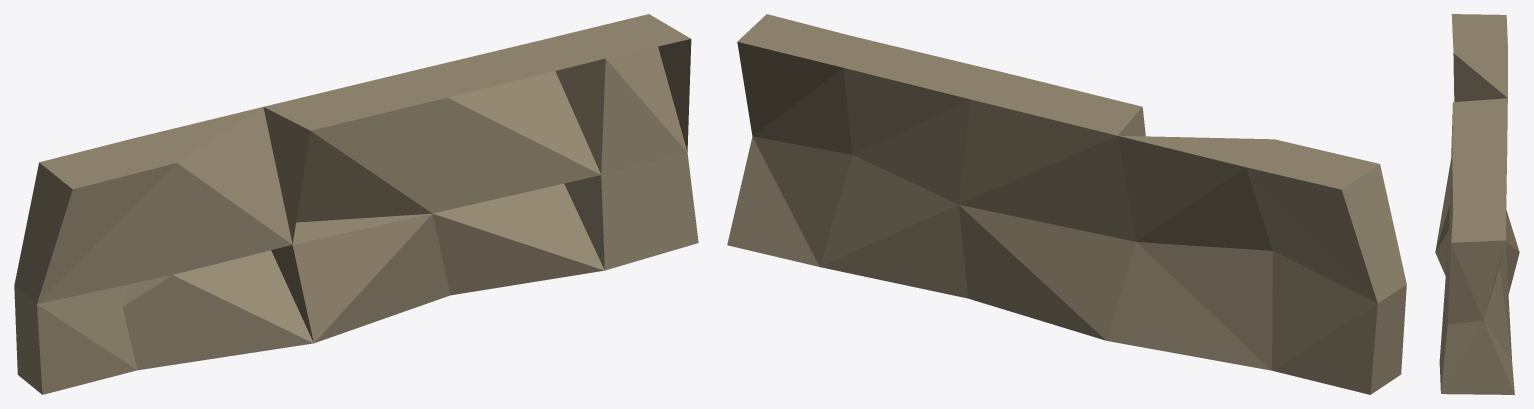
The model's file is wall-stone-lod1.glb.
The picture shows the model from 3 angles, left to right: view 1: azimuth 30°, elevation 25°; view 2: azimuth 150°, elevation 25°; view 3: azimuth 270°, elevation 25°; orthographic projection. The views are drawn at different scales.
Bounding box in the file's own units: 3.85 × 1.16 × 0.571.
